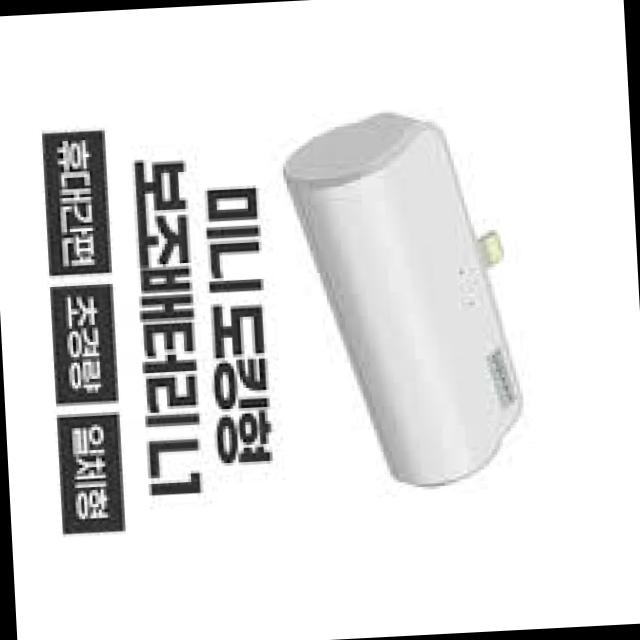portable-charger: (278, 108, 533, 498)
